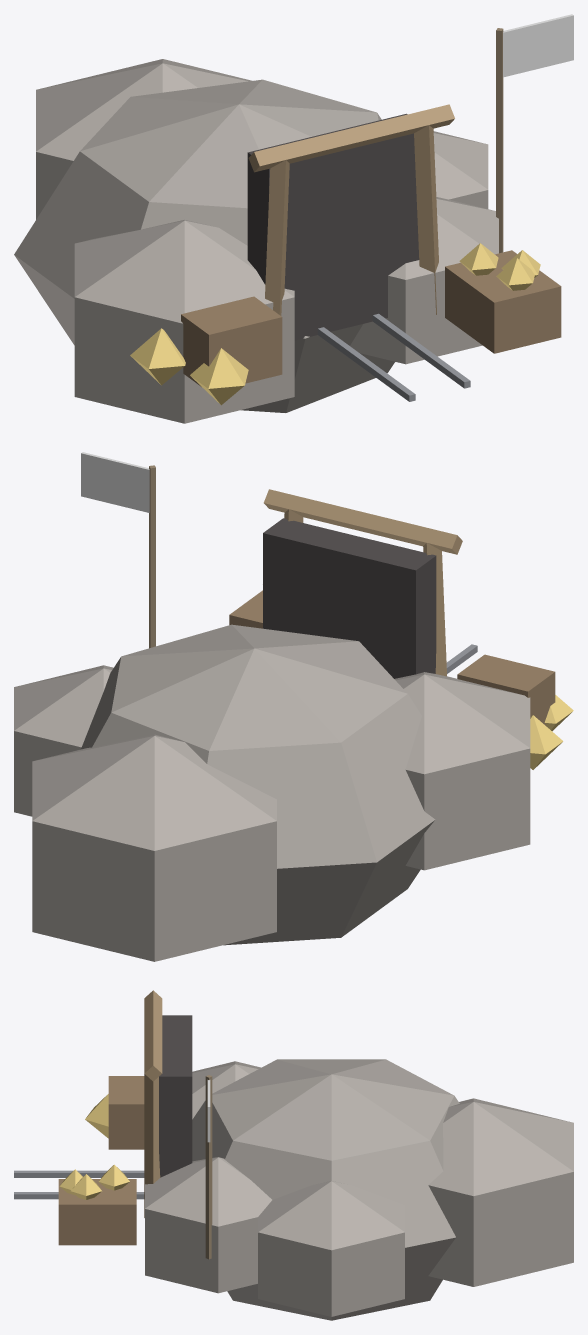
3 views of the same model, one above another, from view 1: azimuth 30°, elevation 25°; view 2: azimuth 150°, elevation 25°; view 3: azimuth 270°, elevation 25° (orthographic). The views are drawn at different scales.
Parts seen in each view (by area): view 1: body; view 2: body; view 3: body.
Part boxes in pixels (x1,y1,x2,y2): body: (14, 14, 573, 423); body: (14, 452, 573, 961); body: (14, 990, 573, 1320).
Size of the model in its own units: 7.89 by 5.84 by 10.05.
